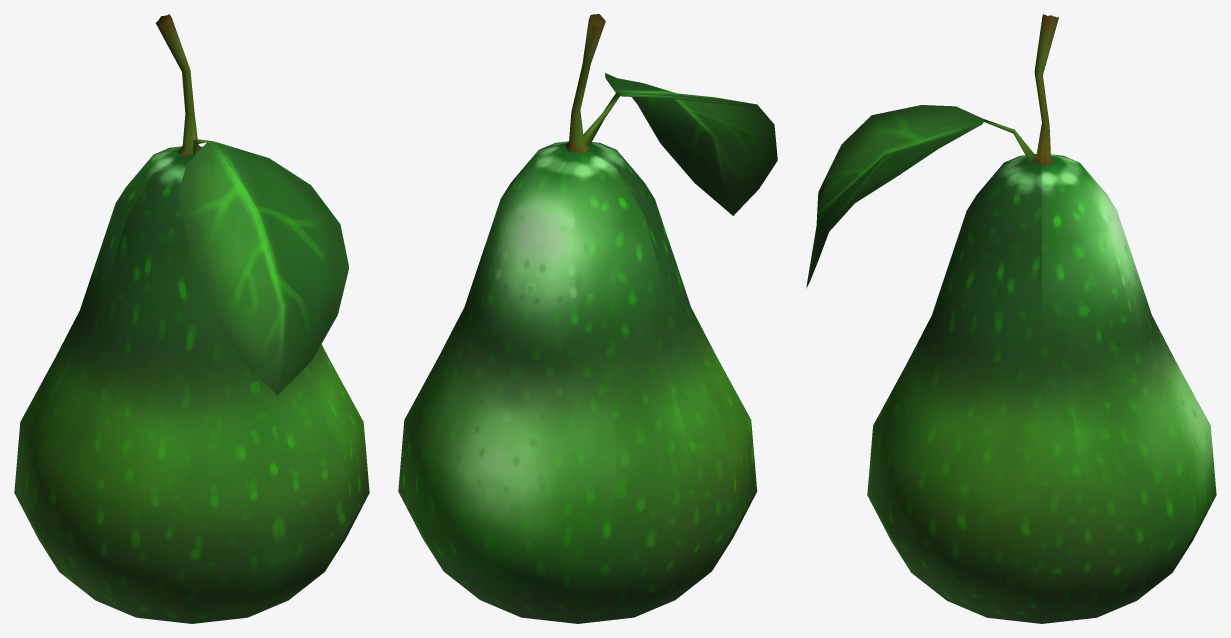
File: avocado.fbx
3 views of the same model, side by side, from view 1: azimuth 30°, elevation 25°; view 2: azimuth 150°, elevation 25°; view 3: azimuth 270°, elevation 25° (orthographic). The views are drawn at different scales.
Visible parts, largest first — view 1: avocado; view 2: avocado; view 3: avocado.
Part boxes in pixels (left/top/right/bottom): avocado: left=14, top=14, right=369, bottom=623; avocado: left=398, top=14, right=777, bottom=623; avocado: left=806, top=14, right=1216, bottom=623.
Bounding box in the file's own units: 1.89 × 3.45 × 2.22.
